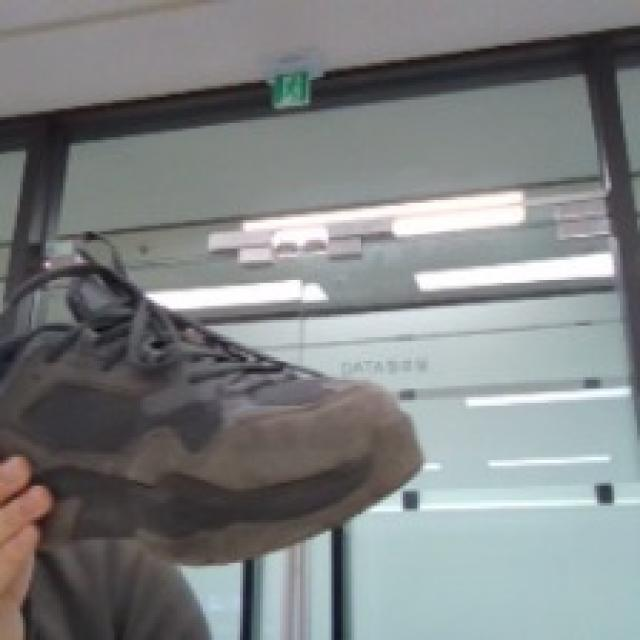shoes: (7, 210, 430, 631)
